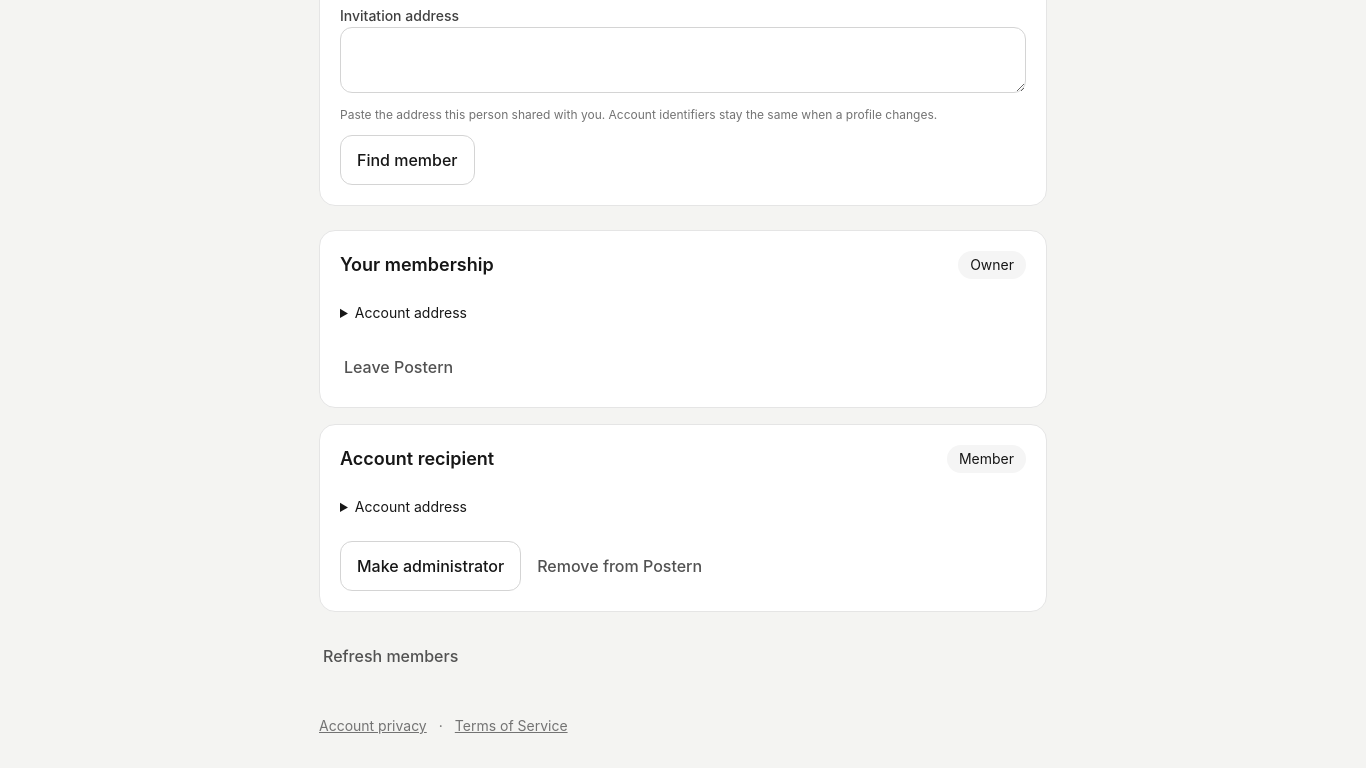
Test: owner confirms a named member role change, then sees the refreshed role
(page scrolled)
What coordinates should you click on to do the following:
click the button "Make administrator"
I would click on:
 (431, 566)
Its box is [340,541,521,591].
(page scrolled)
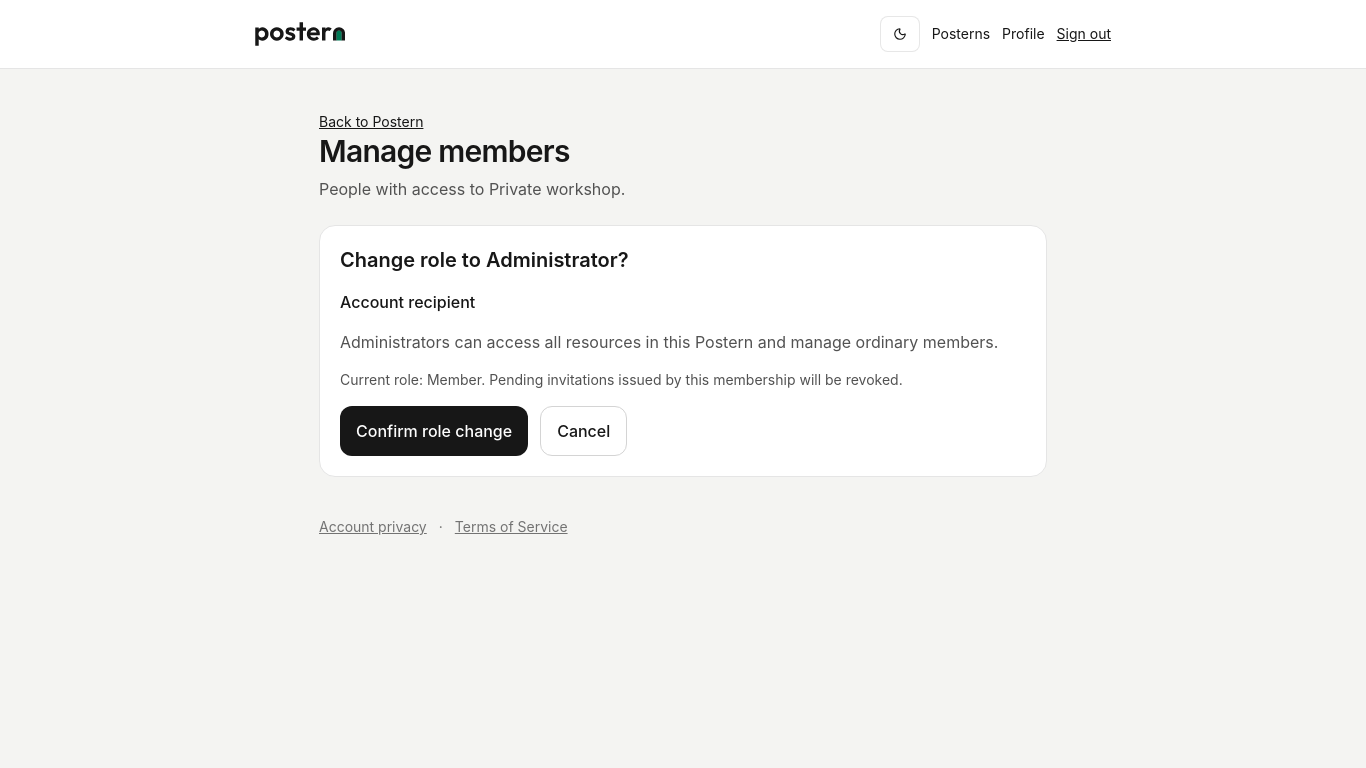
Expected: the text "Account recipient" is shown, [340,292,475,312]
Result: the heading "Change role to Administrator?" is shown at [340,248,628,272]
What coordinates should you click on to do the following:
click the button "Confirm role change"
I would click on:
 (434, 431)
Its box is [340,406,528,456].
(page scrolled)
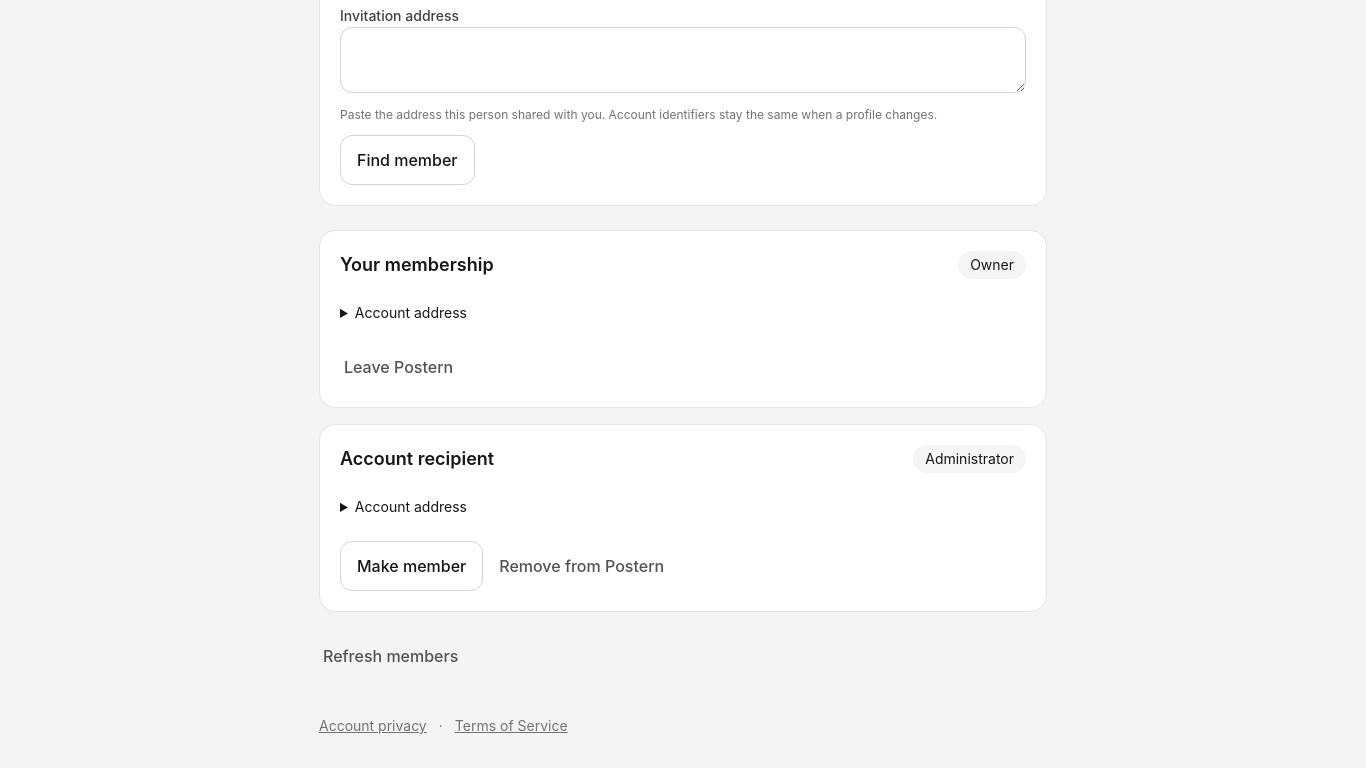
Result: the button "Make member" is shown at [340,541,483,591]
